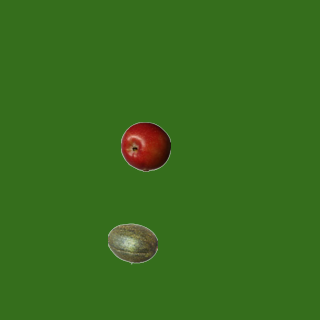Apple Braeburn: (120, 121, 170, 171)
Melon Piel de Sapo: (107, 218, 157, 268)
